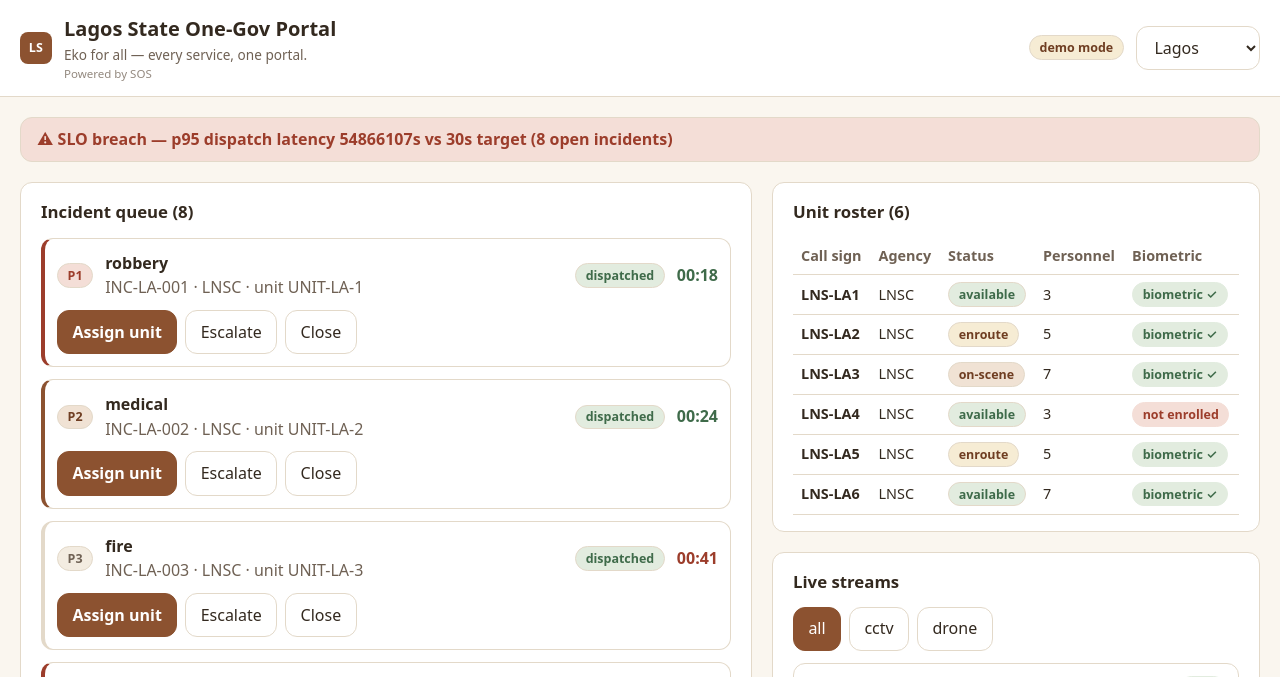
Test: dispatch console (demo mode) › tenant selector re-scopes all data to the chosen state
Expected: the heading "Incident queue (8)" is shown, [41,200,193,224]
Expected: the text "INC-LA-001 · LNSC · unit UNIT-LA-1" is shown, [105,276,363,298]
Select "Benue" in the dropdown named "State tenant" at (1198,48), box [1136,26,1260,70]
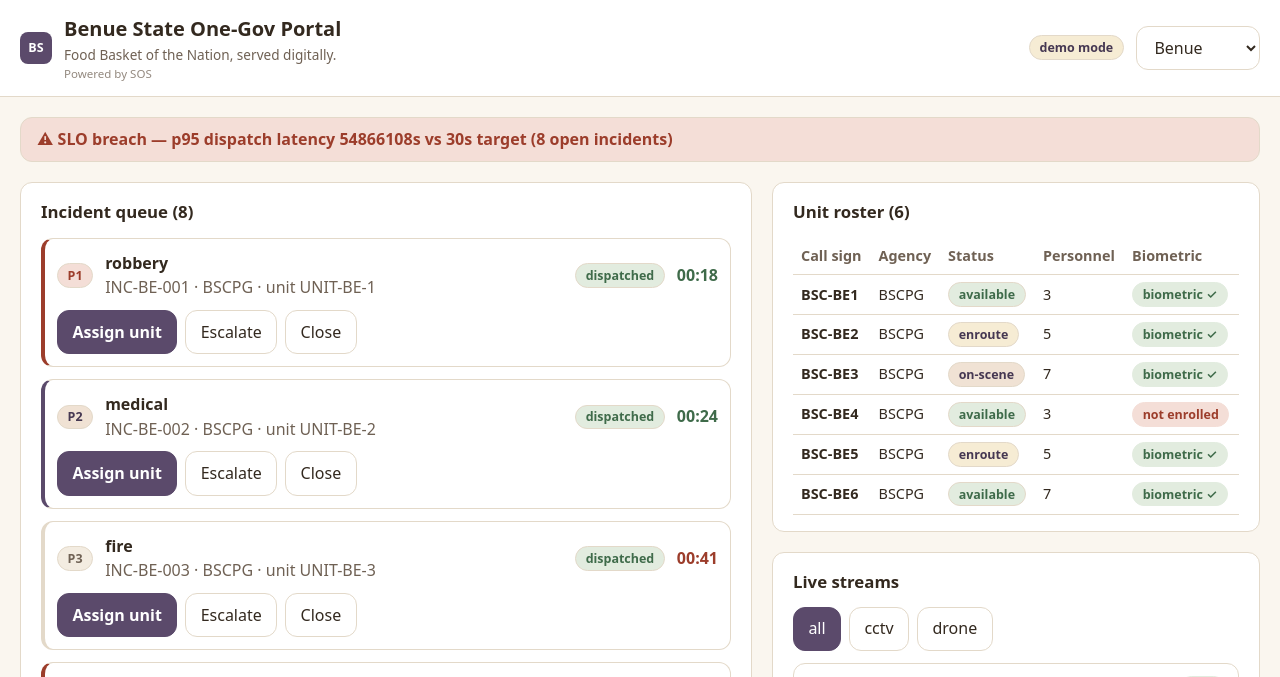
Expected: the text "INC-BE-001 · BSCPG · unit UNIT-BE-1" is shown, [105,276,376,298]
Expected: the text "INC-LA-" is gone
Expected: the row with test id "roster-UNIT-BE-1" is shown, [793,275,1239,315]
